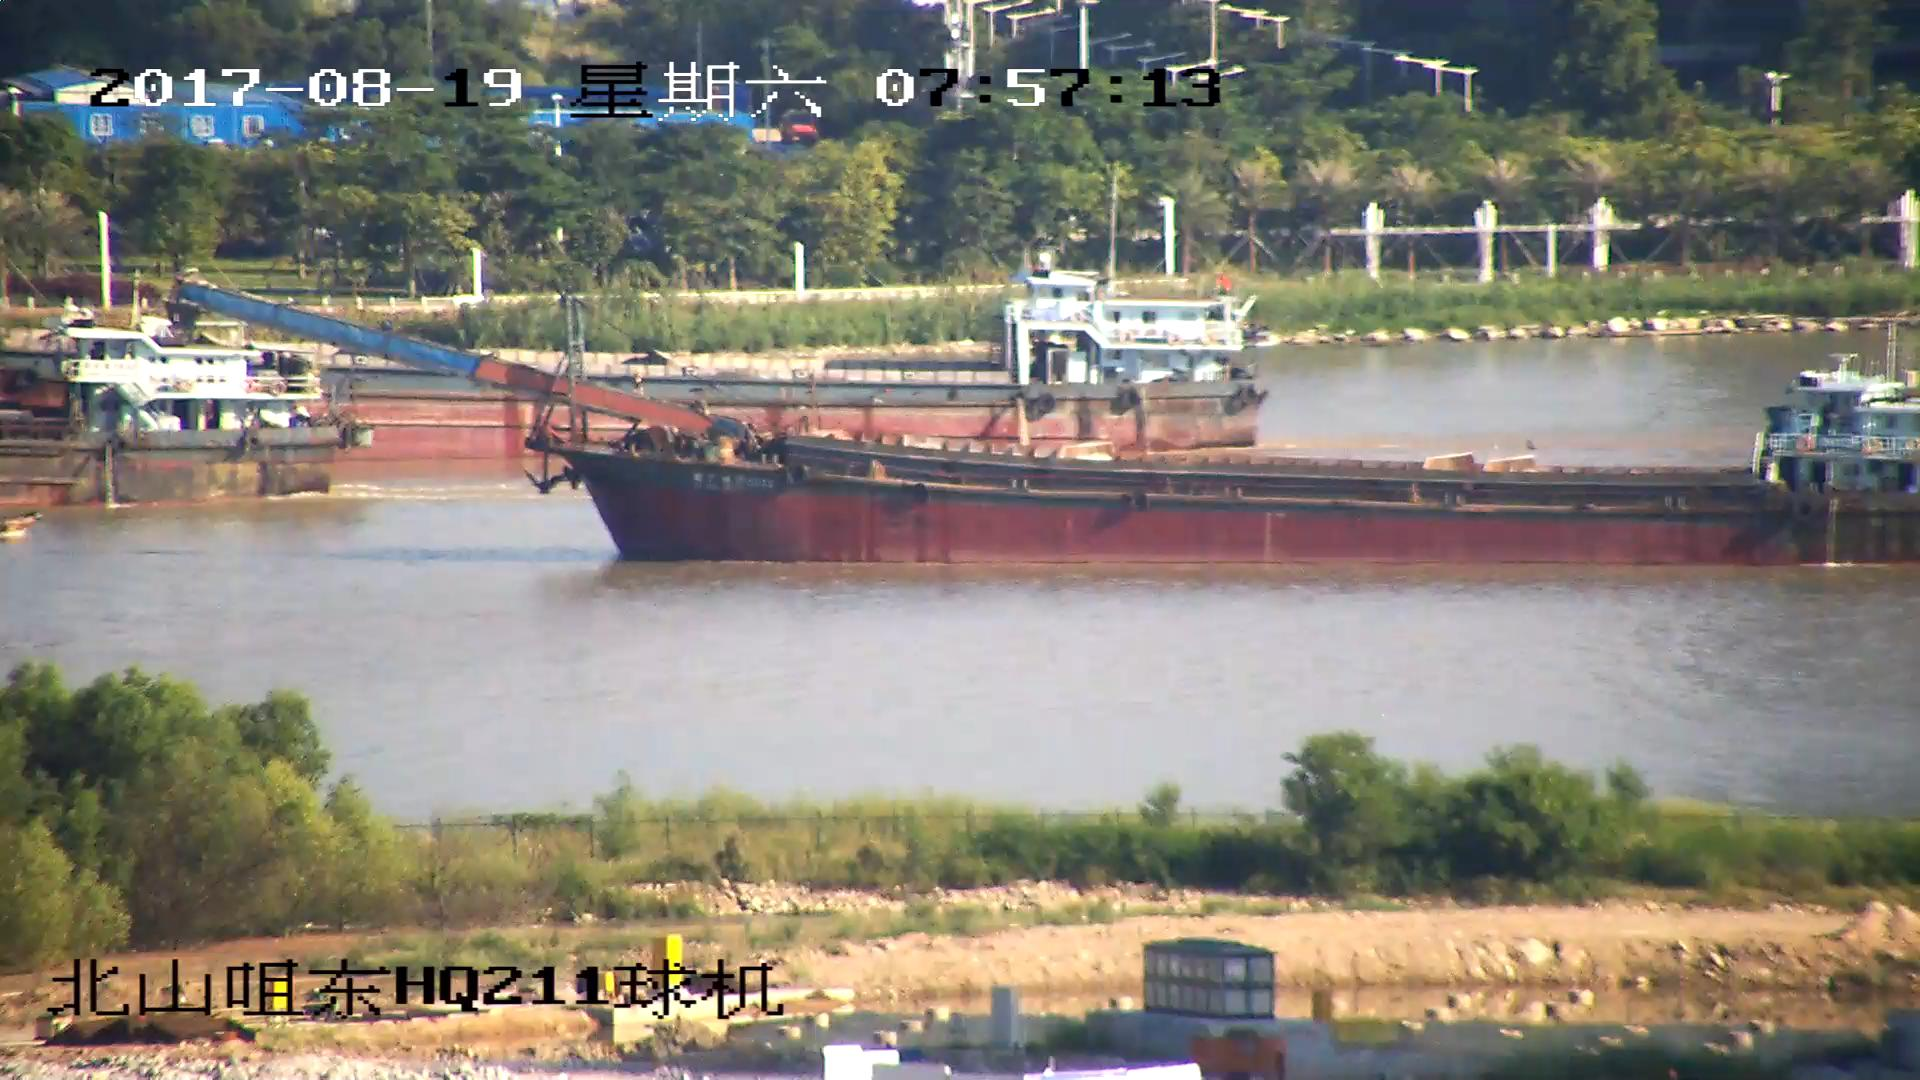bulk cargo carrier: (178, 286, 1920, 567), (337, 264, 1273, 443), (1, 307, 337, 498)
